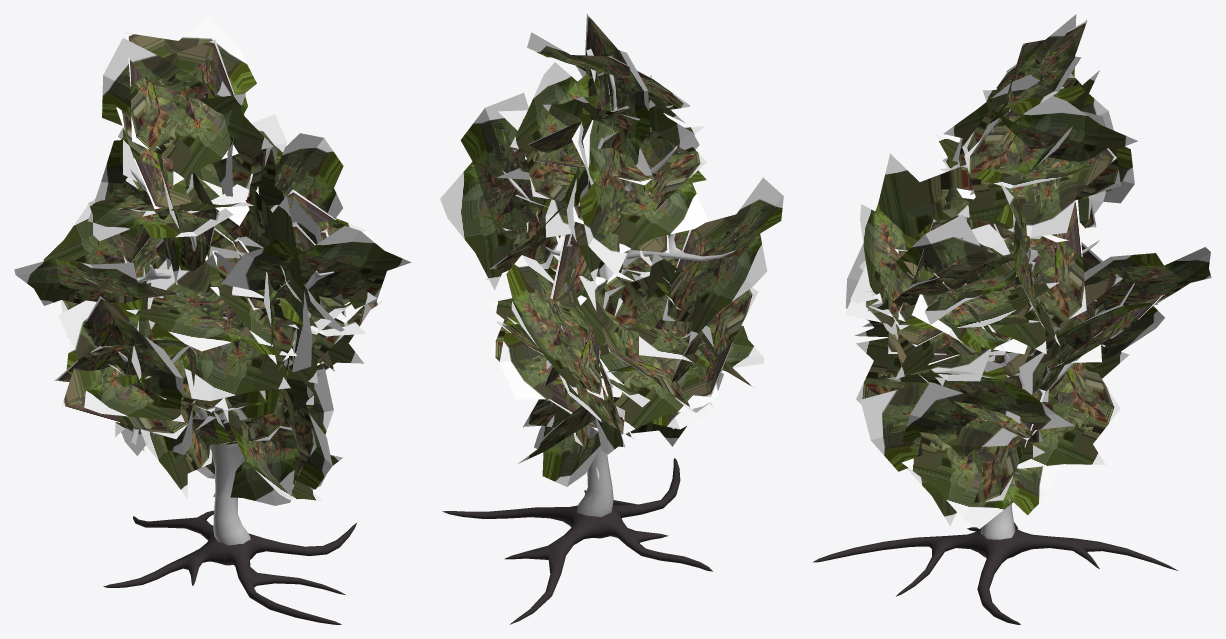
File: Derevo low poli1.fbx
The picture shows the model from 3 angles, left to right: view 1: azimuth 30°, elevation 25°; view 2: azimuth 150°, elevation 25°; view 3: azimuth 270°, elevation 25°; orthographic projection. The views are drawn at different scales.
Parts seen in each view (by area): view 1: Derevo|Bush_Branch_qgphP2_atlas_Preview|Dupli|9, Derevo|Bush_Branch_qgphP2_atlas_Preview|Dupli|54, Derevo|Bush_Branch_qgphP2_atlas_Preview|Dupli|24, Derevo|Bush_Branch_qgphP2_atlas_Preview|Dupli|8, Cube, Bush_Branch_qgphP2_atlas_Preview, Derevo|Bush_Branch_qgphP2_atlas_Preview|Dupli|46, Derevo|Bush_Branch_qgphP2_atlas_Preview|Dupli|3, Derevo|Bush_Branch_qgphP2_atlas_Preview|Dupli|45, Derevo|Bush_Branch_qgphP2_atlas_Preview|Dupli|5, Derevo|Bush_Branch_qgphP2_atlas_Preview|Dupli|49, Derevo (+31 smaller); view 2: Derevo|Bush_Branch_qgphP2_atlas_Preview|Dupli|5, Derevo|Bush_Branch_qgphP2_atlas_Preview|Dupli|3, Derevo|Bush_Branch_qgphP2_atlas_Preview|Dupli|29, Cube, Derevo|Bush_Branch_qgphP2_atlas_Preview|Dupli|30, Derevo|Bush_Branch_qgphP2_atlas_Preview|Dupli|41, Derevo|Bush_Branch_qgphP2_atlas_Preview|Dupli|12, Derevo|Bush_Branch_qgphP2_atlas_Preview|Dupli|8, Derevo, Derevo|Bush_Branch_qgphP2_atlas_Preview|Dupli|57, Derevo|Bush_Branch_qgphP2_atlas_Preview|Dupli|56, Derevo|Bush_Branch_qgphP2_atlas_Preview|Dupli|58 (+26 smaller); view 3: Bush_Branch_qgphP2_atlas_Preview, Derevo|Bush_Branch_qgphP2_atlas_Preview|Dupli|47, Derevo|Bush_Branch_qgphP2_atlas_Preview|Dupli|25, Cube, Derevo|Bush_Branch_qgphP2_atlas_Preview|Dupli|41, Derevo|Bush_Branch_qgphP2_atlas_Preview|Dupli|4, Derevo|Bush_Branch_qgphP2_atlas_Preview|Dupli|29, Derevo|Bush_Branch_qgphP2_atlas_Preview|Dupli|39, Derevo|Bush_Branch_qgphP2_atlas_Preview|Dupli|38, Derevo|Bush_Branch_qgphP2_atlas_Preview|Dupli|53, Derevo|Bush_Branch_qgphP2_atlas_Preview|Dupli|52, Derevo|Bush_Branch_qgphP2_atlas_Preview|Dupli|33 (+29 smaller).
Boxes of the visible parts, <box> form: Derevo|Bush_Branch_qgphP2_atlas_Preview|Dupli|9: <box>126,14,256,184</box>; Derevo|Bush_Branch_qgphP2_atlas_Preview|Dupli|54: <box>147,237,294,400</box>; Derevo|Bush_Branch_qgphP2_atlas_Preview|Dupli|24: <box>221,226,411,303</box>; Derevo|Bush_Branch_qgphP2_atlas_Preview|Dupli|8: <box>102,38,234,181</box>; Cube: <box>103,510,356,624</box>; Bush_Branch_qgphP2_atlas_Preview: <box>156,184,311,423</box>; Derevo|Bush_Branch_qgphP2_atlas_Preview|Dupli|46: <box>58,298,228,439</box>; Derevo|Bush_Branch_qgphP2_atlas_Preview|Dupli|3: <box>14,258,181,305</box>; Derevo|Bush_Branch_qgphP2_atlas_Preview|Dupli|45: <box>83,296,183,410</box>; Derevo|Bush_Branch_qgphP2_atlas_Preview|Dupli|5: <box>268,133,343,217</box>; Derevo|Bush_Branch_qgphP2_atlas_Preview|Dupli|49: <box>213,368,333,505</box>; Derevo: <box>83,169,334,545</box>; Derevo|Bush_Branch_qgphP2_atlas_Preview|Dupli|5: <box>440,93,560,290</box>; Derevo|Bush_Branch_qgphP2_atlas_Preview|Dupli|3: <box>662,177,783,343</box>; Derevo|Bush_Branch_qgphP2_atlas_Preview|Dupli|29: <box>506,255,603,399</box>; Cube: <box>442,458,712,624</box>; Derevo|Bush_Branch_qgphP2_atlas_Preview|Dupli|30: <box>572,102,670,275</box>; Derevo|Bush_Branch_qgphP2_atlas_Preview|Dupli|41: <box>510,62,589,201</box>; Derevo|Bush_Branch_qgphP2_atlas_Preview|Dupli|12: <box>573,170,707,254</box>; Derevo|Bush_Branch_qgphP2_atlas_Preview|Dupli|8: <box>585,14,652,175</box>; Derevo: <box>502,74,735,517</box>; Derevo|Bush_Branch_qgphP2_atlas_Preview|Dupli|57: <box>675,287,758,396</box>; Derevo|Bush_Branch_qgphP2_atlas_Preview|Dupli|56: <box>579,276,712,412</box>; Derevo|Bush_Branch_qgphP2_atlas_Preview|Dupli|58: <box>603,252,721,429</box>; Bush_Branch_qgphP2_atlas_Preview: <box>845,153,1122,402</box>; Derevo|Bush_Branch_qgphP2_atlas_Preview|Dupli|47: <box>902,432,1060,528</box>; Derevo|Bush_Branch_qgphP2_atlas_Preview|Dupli|25: <box>1017,362,1120,468</box>; Cube: <box>813,522,1178,624</box>; Derevo|Bush_Branch_qgphP2_atlas_Preview|Dupli|41: <box>952,96,1137,199</box>; Derevo|Bush_Branch_qgphP2_atlas_Preview|Dupli|4: <box>982,199,1086,354</box>; Derevo|Bush_Branch_qgphP2_atlas_Preview|Dupli|29: <box>1084,247,1211,310</box>; Derevo|Bush_Branch_qgphP2_atlas_Preview|Dupli|39: <box>995,87,1116,237</box>; Derevo|Bush_Branch_qgphP2_atlas_Preview|Dupli|38: <box>958,109,1086,238</box>; Derevo|Bush_Branch_qgphP2_atlas_Preview|Dupli|53: <box>856,337,1020,459</box>; Derevo|Bush_Branch_qgphP2_atlas_Preview|Dupli|52: <box>860,369,1044,471</box>; Derevo|Bush_Branch_qgphP2_atlas_Preview|Dupli|33: <box>883,214,1035,385</box>.
Bounding box in the file's own units: 1983 × 3071 × 2101.
